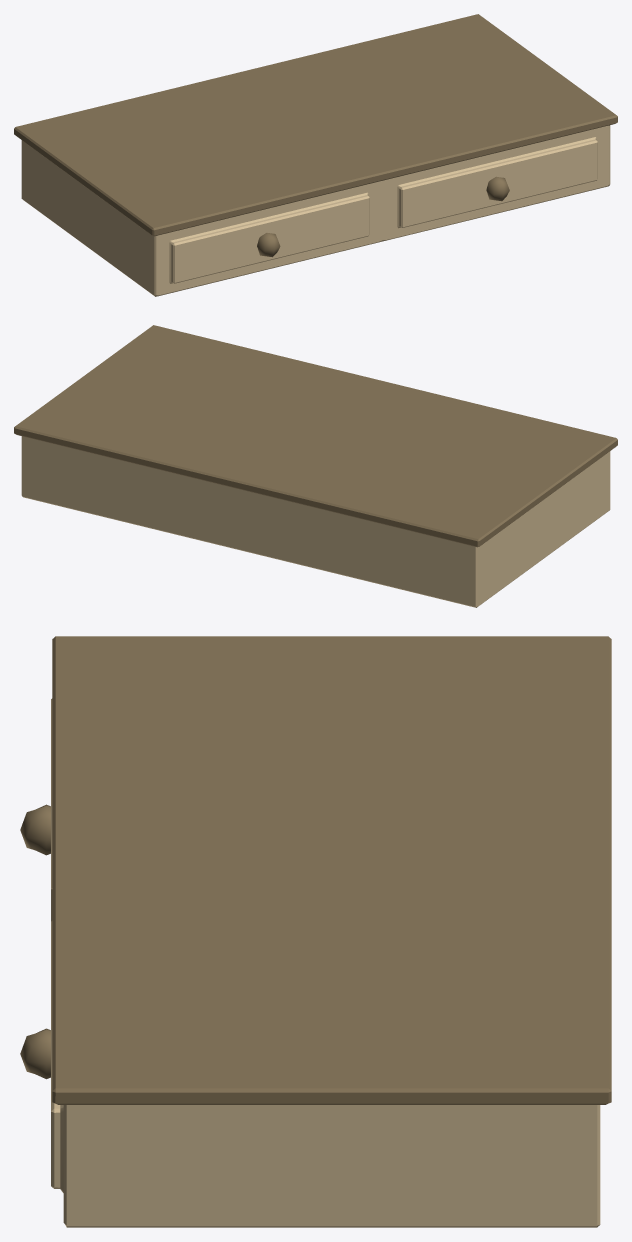
The model's file is Drawer.fbx.
3 views of the same model, one above another, from view 1: azimuth 30°, elevation 25°; view 2: azimuth 150°, elevation 25°; view 3: azimuth 270°, elevation 25° (orthographic). The views are drawn at different scales.
Parts seen in each view (by area): view 1: drawerDouble; view 2: drawerDouble; view 3: drawerDouble.
Part boxes in pixels (box(x1,y1,x2,y2)): drawerDouble: box(14, 14, 617, 296); drawerDouble: box(14, 325, 617, 607); drawerDouble: box(20, 636, 611, 1227).
Bounding box in the file's own units: 98.38 × 14.53 × 54.11.
